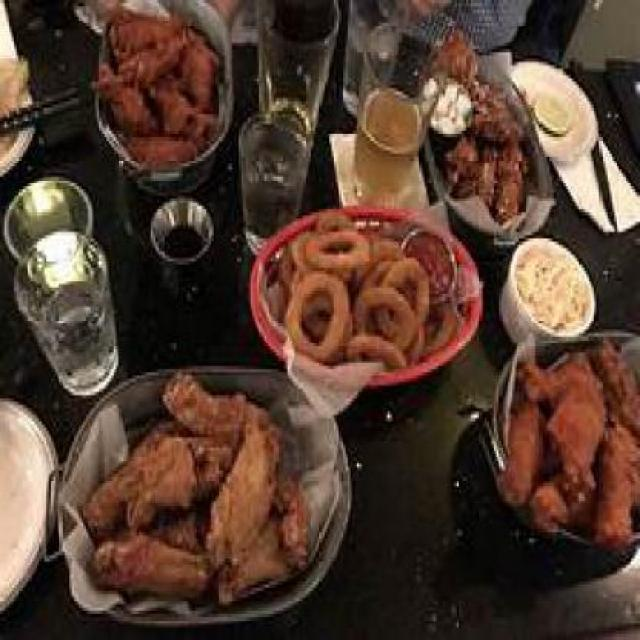chicken wings: (72, 376, 316, 604), (505, 327, 633, 555), (107, 10, 225, 170), (438, 59, 522, 212)
onion rings: (280, 230, 448, 352)
